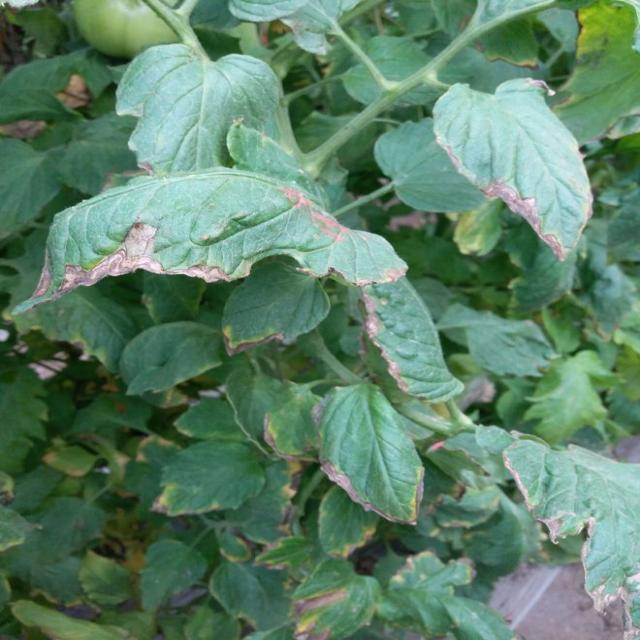Early_blight: (35, 221, 233, 303), (545, 511, 640, 640), (317, 458, 425, 529), (486, 179, 568, 268), (360, 293, 410, 393), (391, 548, 476, 592), (290, 585, 347, 640), (276, 458, 305, 541), (263, 412, 311, 461), (504, 450, 536, 519), (221, 326, 291, 354), (53, 70, 94, 113), (330, 528, 375, 560), (350, 263, 409, 287), (1, 118, 50, 142), (148, 485, 177, 520), (252, 554, 293, 573)
